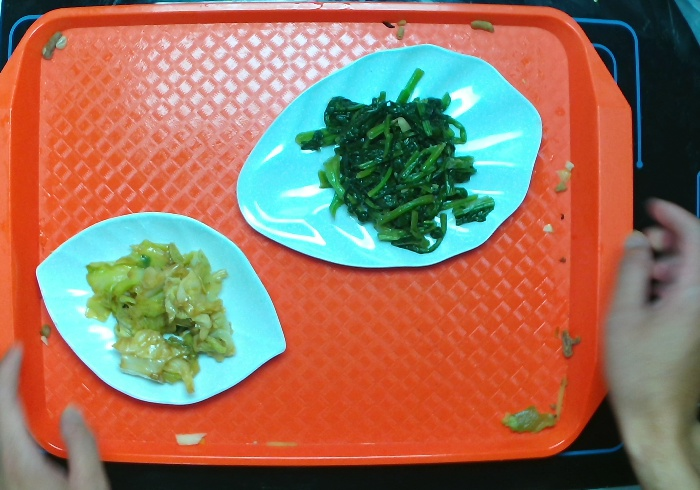RJxy-Bai_Ye_Pan: (234, 40, 550, 272)
RJxy-Da_Du_Pan: (31, 205, 289, 406)
